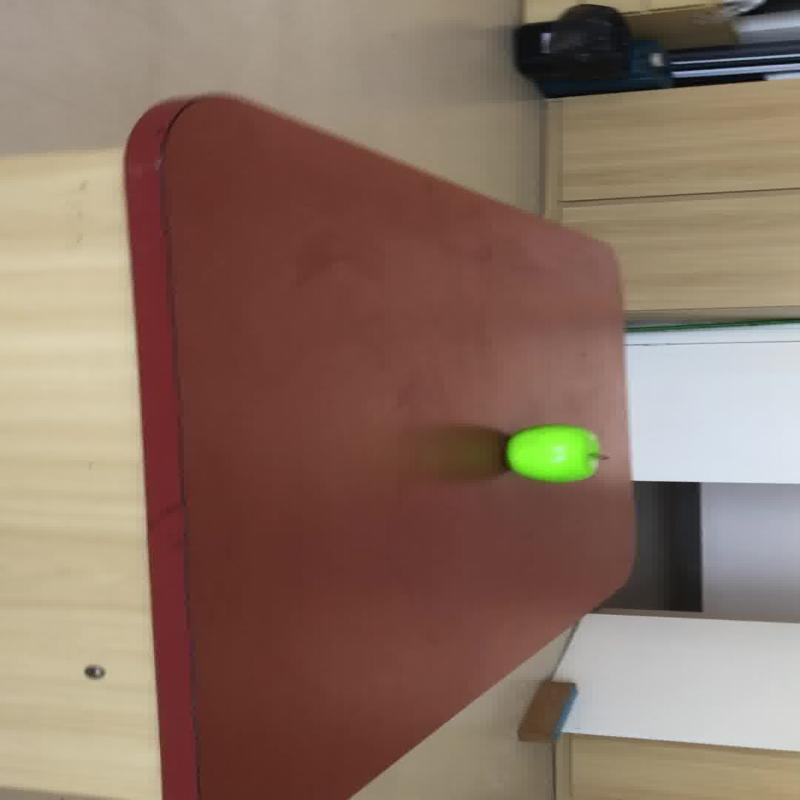apple: (504, 424, 602, 484)
